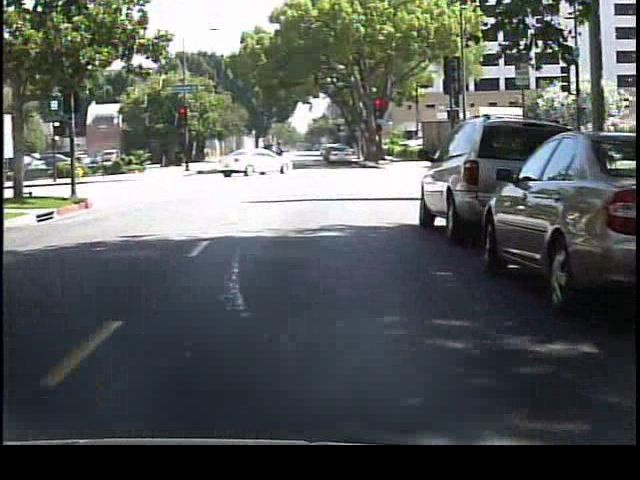person: (275, 141, 290, 172)
